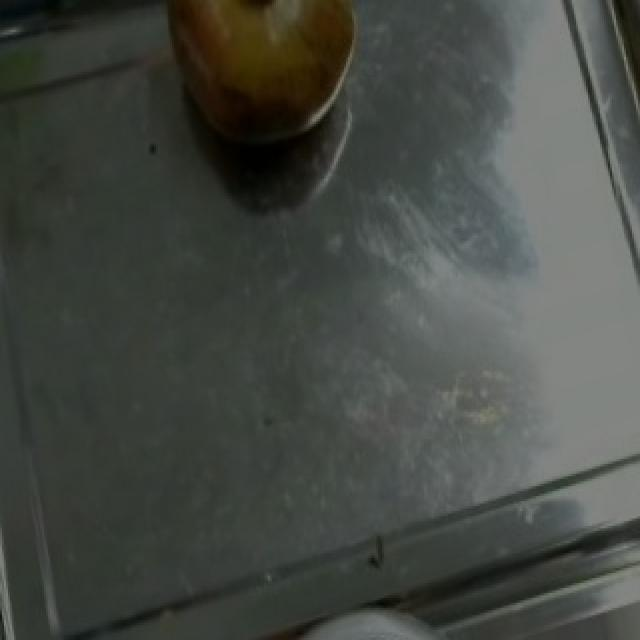fruit: (146, 0, 386, 164)
